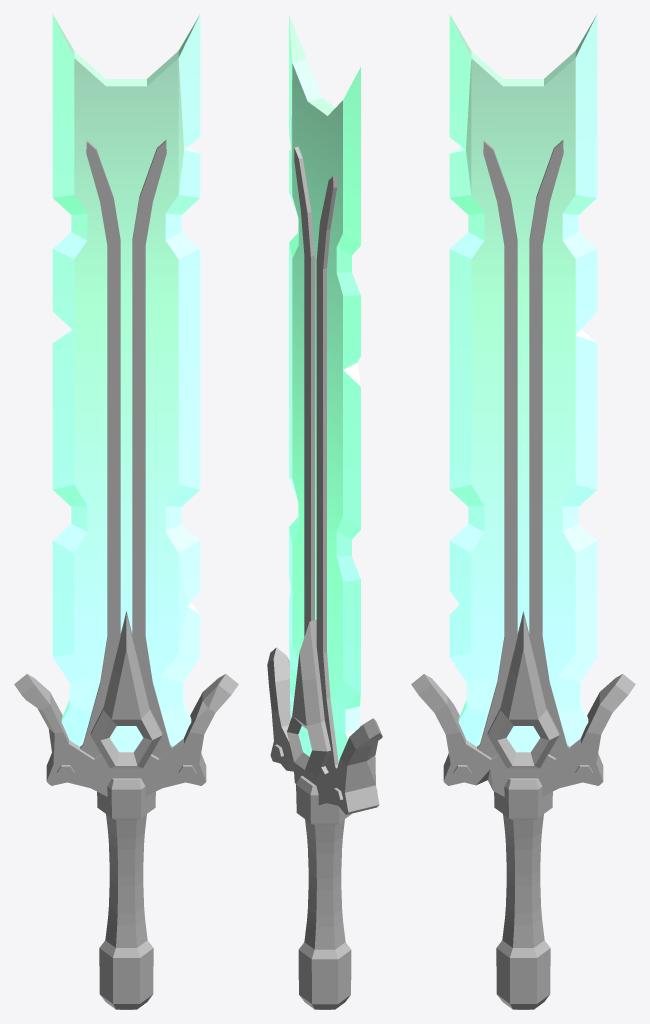
File: SM_Wep_Sword_04.fbx
The picture shows the model from 3 angles, left to right: view 1: azimuth 90°, elevation 25°; view 2: azimuth 210°, elevation 25°; view 3: azimuth 270°, elevation 25°; orthographic projection. The views are drawn at different scales.
Visible parts, largest first — view 1: SM_Wep_Sword_04; view 2: SM_Wep_Sword_04; view 3: SM_Wep_Sword_04.
Boxes of the visible parts, x1,y1,x2,y2 form: SM_Wep_Sword_04: [14, 14, 238, 1009]; SM_Wep_Sword_04: [267, 14, 382, 1009]; SM_Wep_Sword_04: [411, 14, 635, 1009].
Size of the model in its own units: 7.52 by 136 by 27.9.
